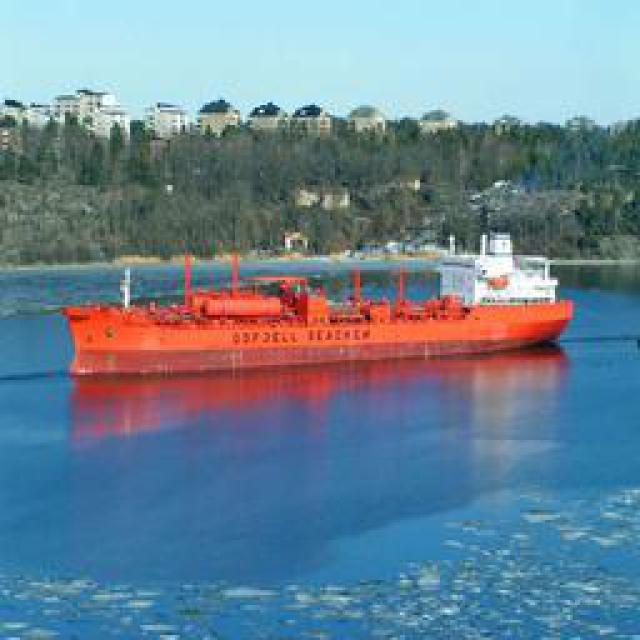Ship: (70, 256, 575, 364)
